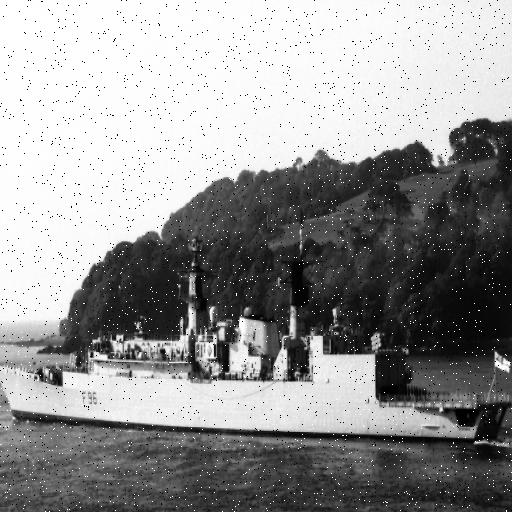Fragata: (1, 219, 512, 456)
